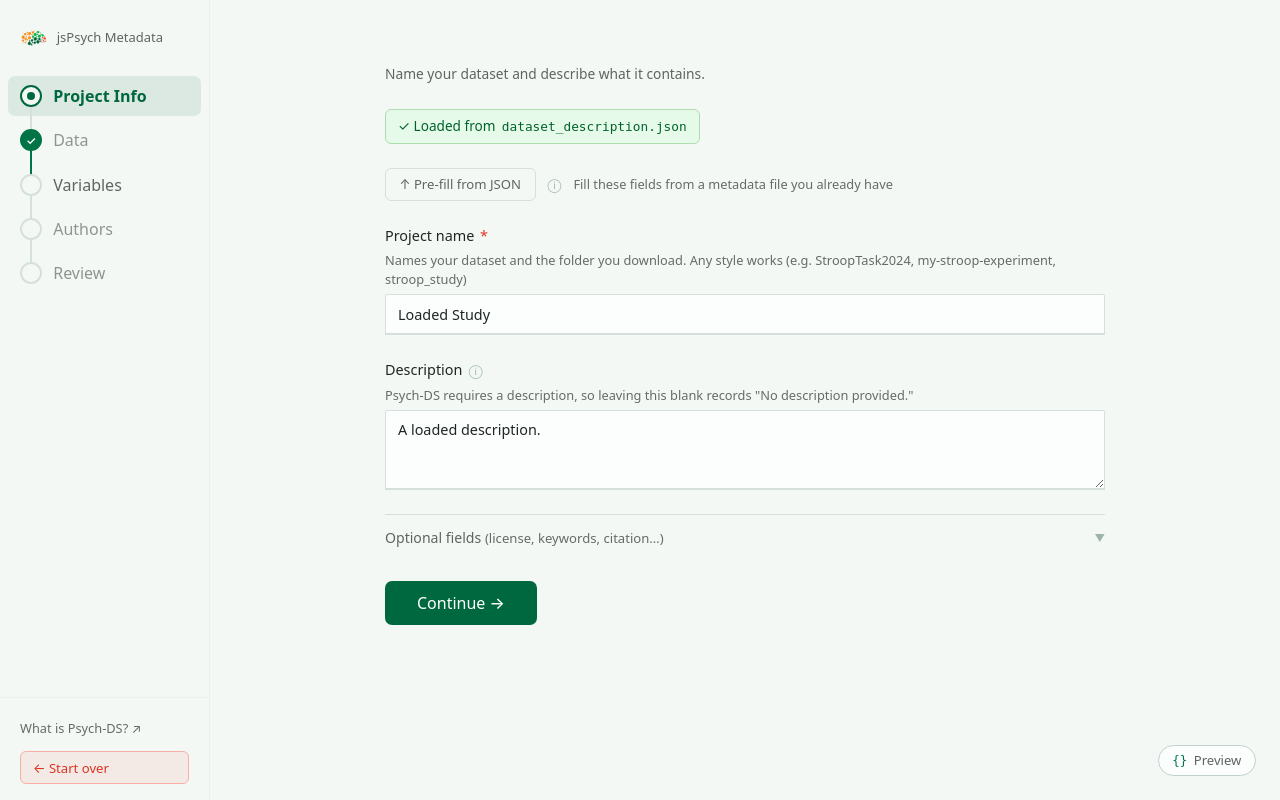
Test case: AppShell + real ProjectInfo (existing project) › loads existing metadata exactly once, even after revisiting Project Info
The image size is (1280, 800).
expect the text "✓ Loaded from dataset_description.json" is shown: met, box [385, 109, 700, 144]
expect the field labelled "Project name *" holds "Loaded Study": met, box [385, 294, 1105, 335]
Continue — existing metadata is loaded, so Data is pre-completed and we skip to Variables.
Step 1. Click the button "Continue →" → (461, 603), box [385, 581, 537, 625]
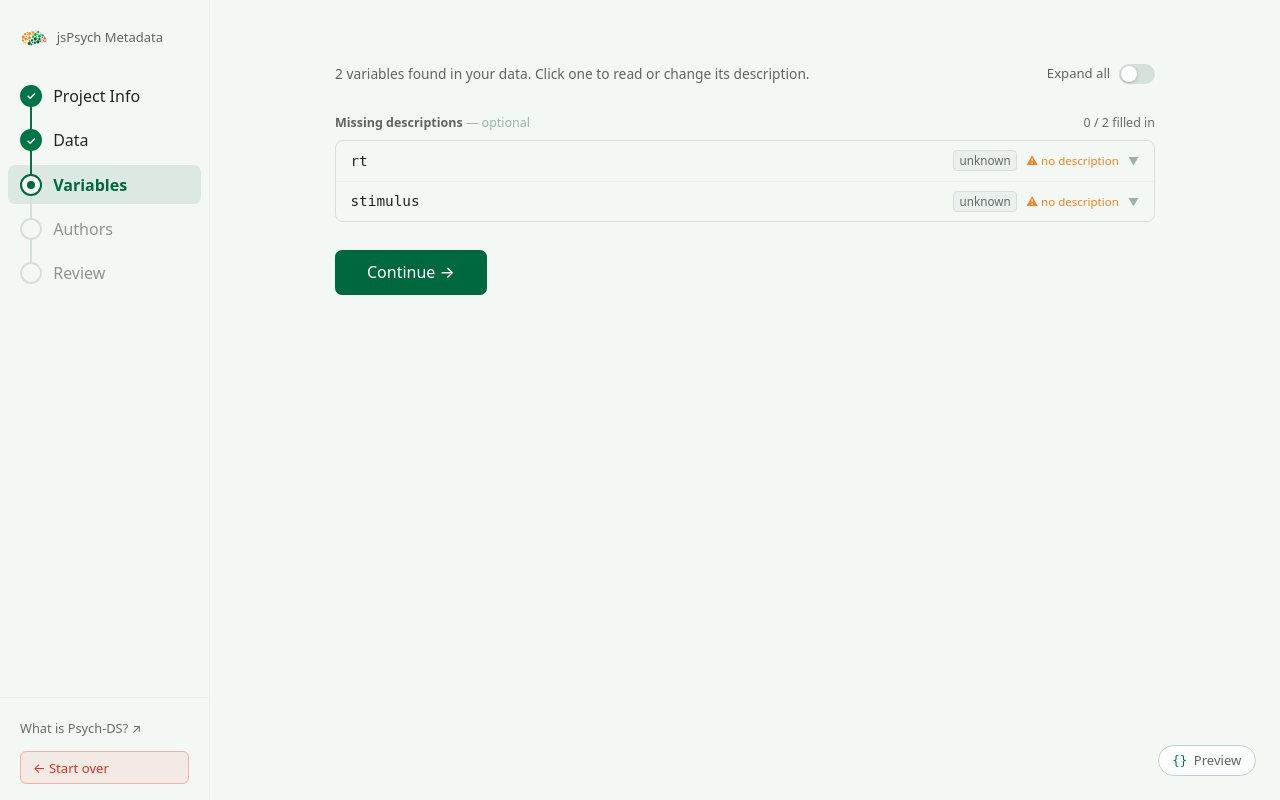
Navigate back to Project Info via the sidebar — this remounts the page.
Step 2. Click the button "✓ Project Info" → (104, 96), box [8, 76, 201, 116]
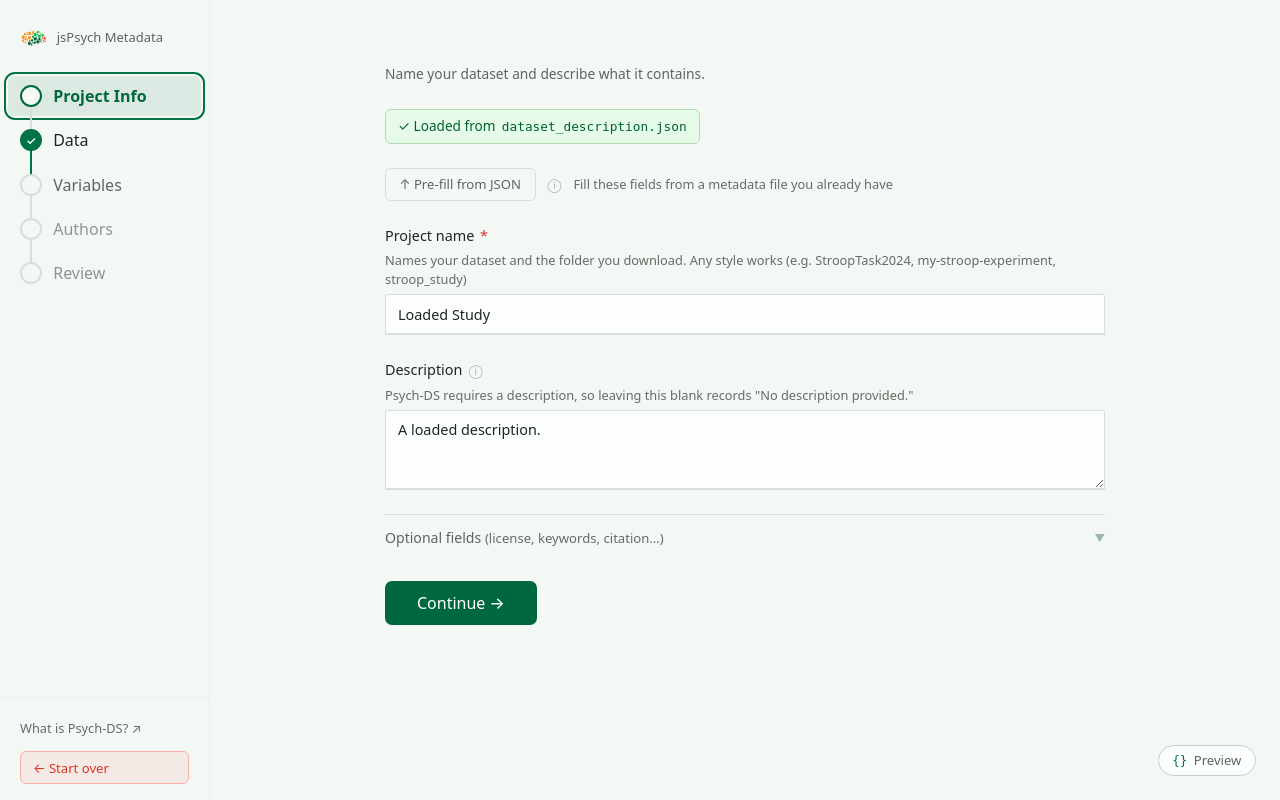
expect the field labelled "Project name *" holds "Loaded Study": met, box [385, 294, 1105, 335]
